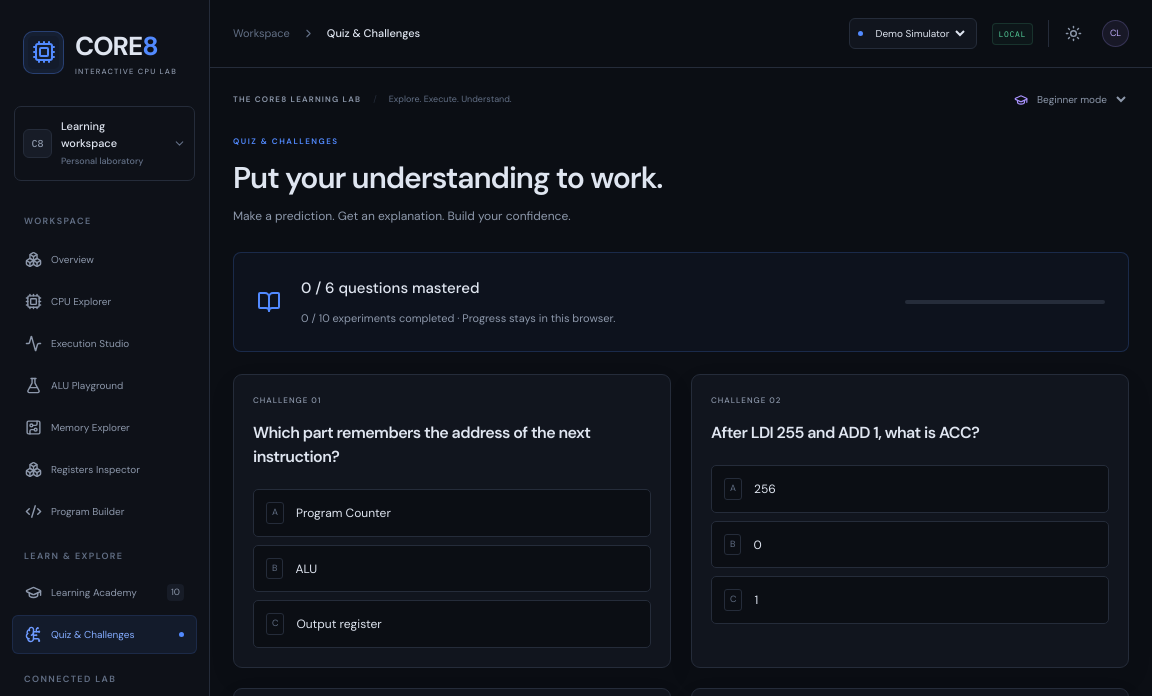
Scenario: dashboard route rendering and interactions › lets learners answer a quiz and read its explanation
This screenshot has width=1152, height=696.
Click the button "A Program Counter": [343, 513] box [253,489,651,537]
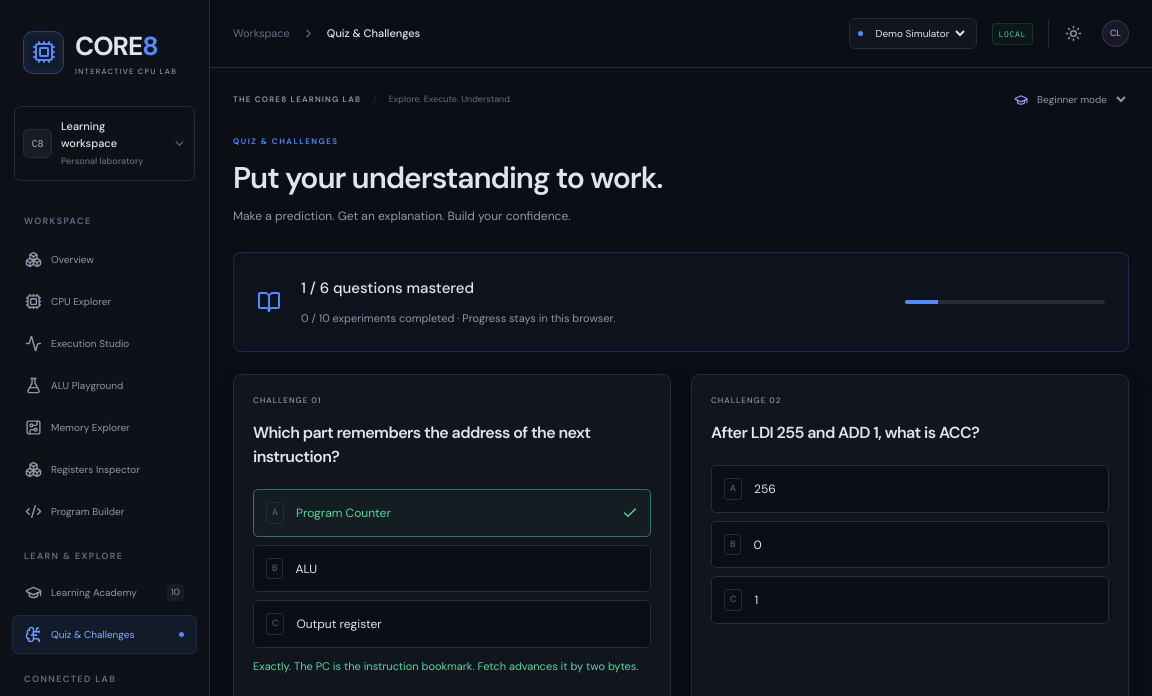
Now the text "Exactly. The PC is the instruction bookmark" is shown, box [253,657,651,676]
